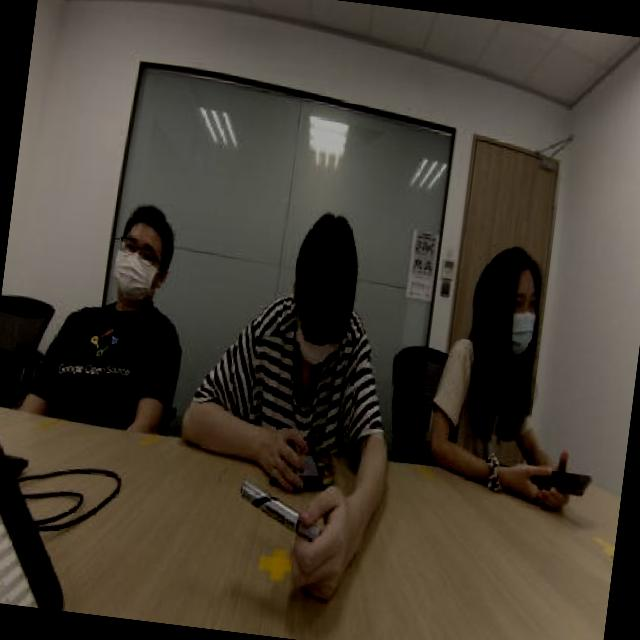Person: (16, 173, 197, 433), (223, 200, 401, 449), (429, 213, 578, 472)
